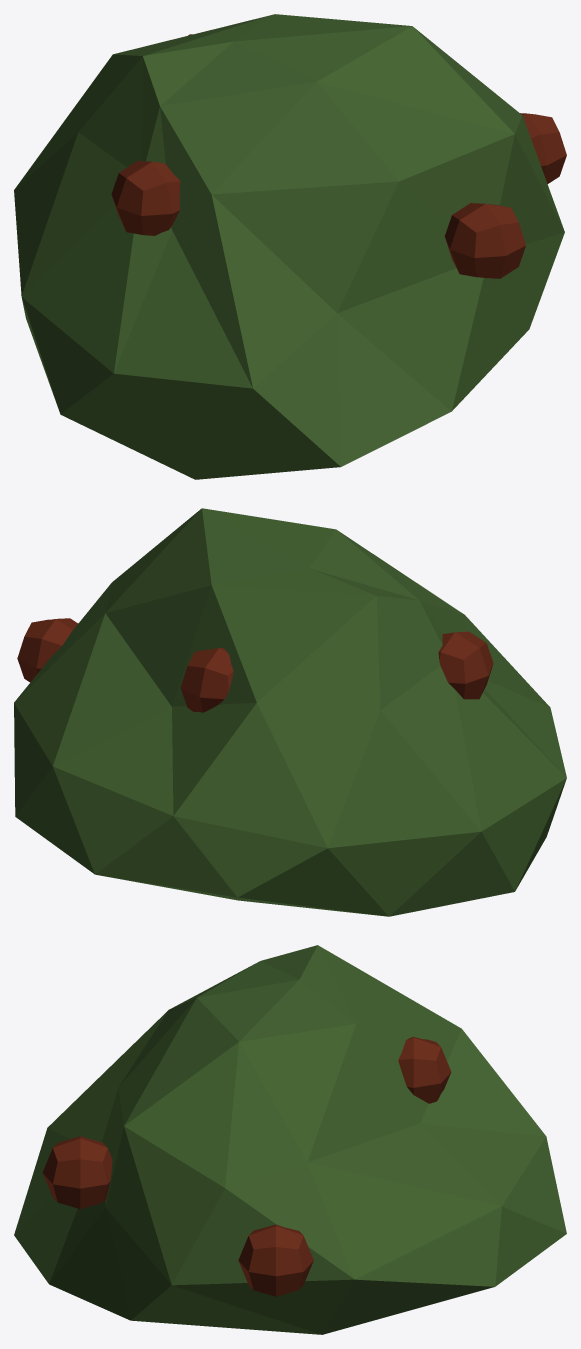
Rendered from BushVar3_V2.fbx.
3 views of the same model, one above another, from view 1: azimuth 30°, elevation 25°; view 2: azimuth 150°, elevation 25°; view 3: azimuth 270°, elevation 25° (orthographic). The views are drawn at different scales.
Parts seen in each view (by area): view 1: Icosphere, Cube.006; view 2: Icosphere, Cube.006; view 3: Icosphere, Cube.006.
Boxes of the visible parts, x1=… form: Icosphere: x1=14, y1=14, x2=564, y2=479; Cube.006: x1=111, y1=34, x2=566, y2=278; Icosphere: x1=14, y1=508, x2=566, y2=916; Cube.006: x1=17, y1=618, x2=493, y2=712; Icosphere: x1=14, y1=945, x2=566, y2=1334; Cube.006: x1=42, y1=1036, x2=451, y2=1296.
Size of the model in its own units: 121 by 75.98 by 123.
